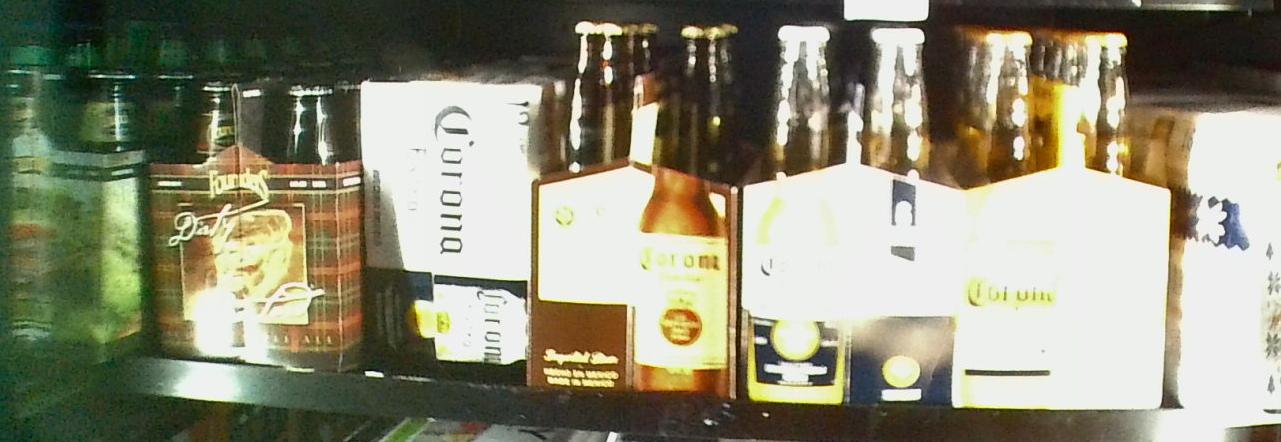bottle: (741, 21, 953, 409), (954, 23, 1166, 408), (535, 20, 738, 399), (148, 66, 357, 371), (356, 80, 532, 387), (1173, 105, 1281, 406)
